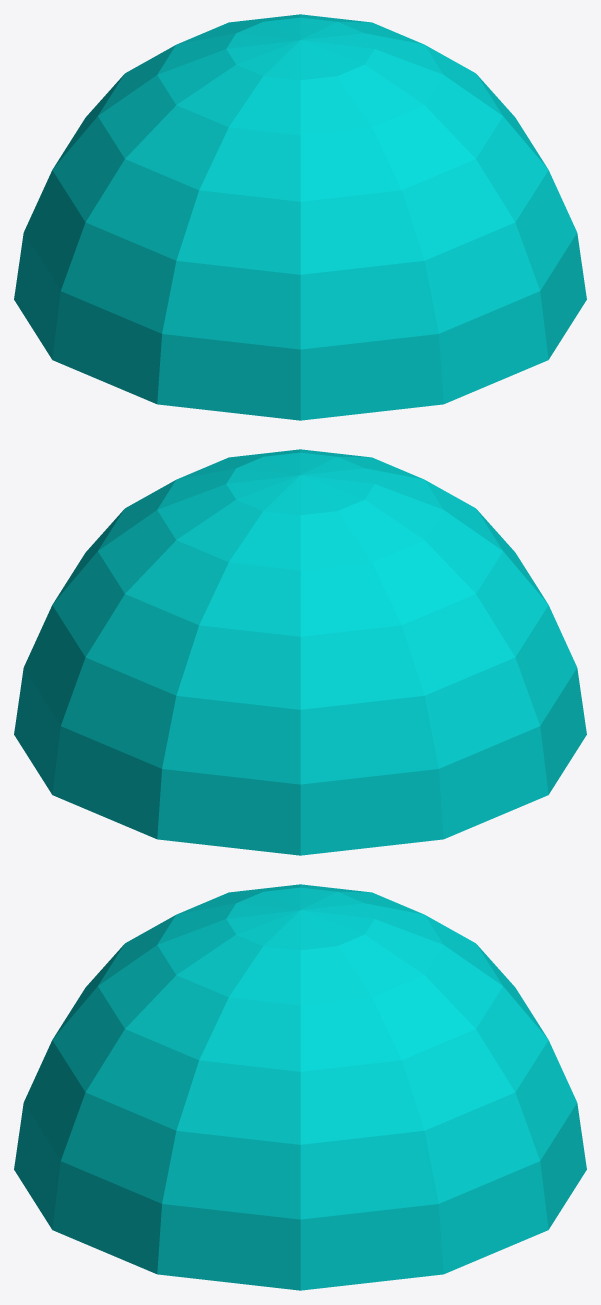
Rendered from Shield.fbx.
3 renders of one model, top to bottom at view 1: azimuth 30°, elevation 25°; view 2: azimuth 150°, elevation 25°; view 3: azimuth 270°, elevation 25°, orthographic.
Visible parts, largest first — view 1: shield1; view 2: shield1; view 3: shield1.
Boxes of the visible parts, bbox=[...] form: shield1: bbox=[14, 14, 586, 420]; shield1: bbox=[14, 449, 586, 855]; shield1: bbox=[14, 884, 586, 1290].
Size of the model in its own units: 18.13 by 9.07 by 18.13.
